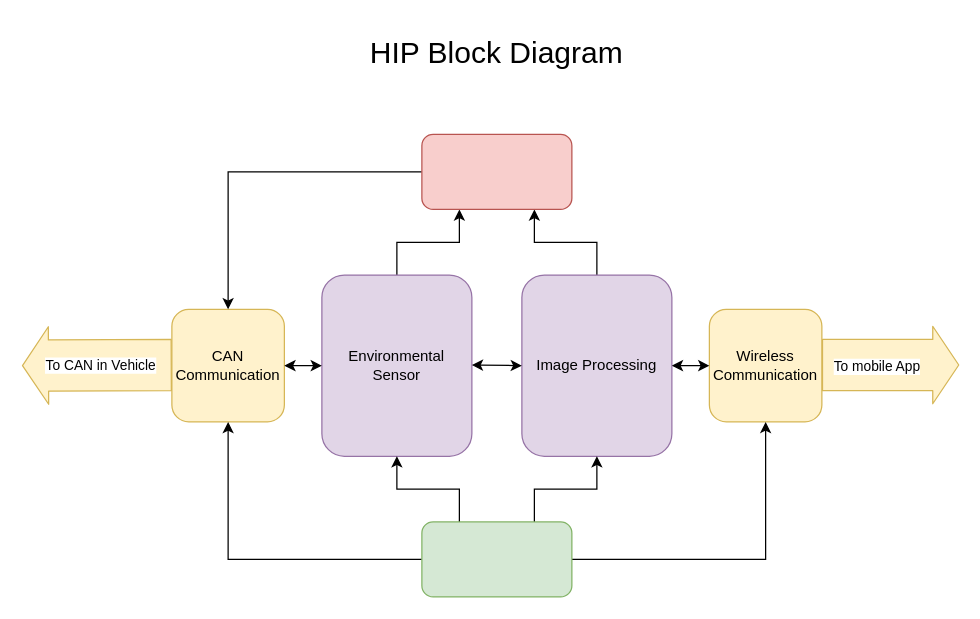
This 980x619 diagram has some shape labels left out. Each missing label, with the box of its shape:
Power Regulation: (421, 521, 572, 597)
Warning Module: (421, 133, 572, 209)
